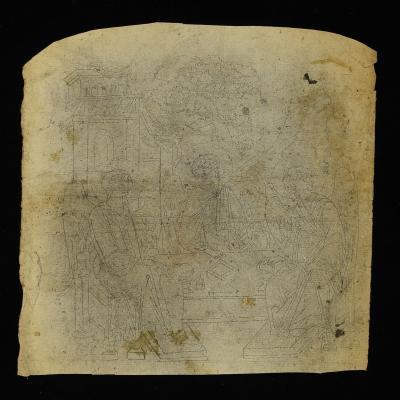graphics: (17, 23, 378, 377)
